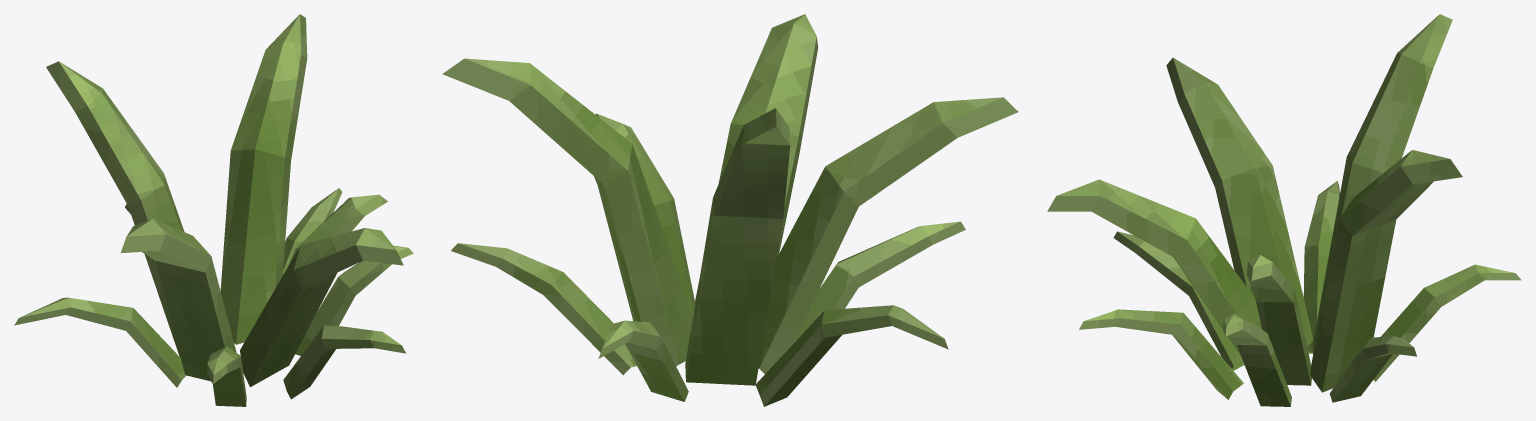
File: grass_spikeLarge_fbx.fbx
3 renders of one model, left to right at view 1: azimuth 30°, elevation 25°; view 2: azimuth 150°, elevation 25°; view 3: azimuth 270°, elevation 25°, orthographic. The views are drawn at different scales.
Parts seen in each view (by area): view 1: grass_spikeLarge; view 2: grass_spikeLarge; view 3: grass_spikeLarge.
Boxes of the visible parts, bbox=[...] form: grass_spikeLarge: bbox=[14, 14, 413, 406]; grass_spikeLarge: bbox=[442, 14, 1018, 406]; grass_spikeLarge: bbox=[1047, 14, 1521, 406].
Size of the model in its own units: 138 by 106 by 146.
Materials: 1 (1 with a texture image).
